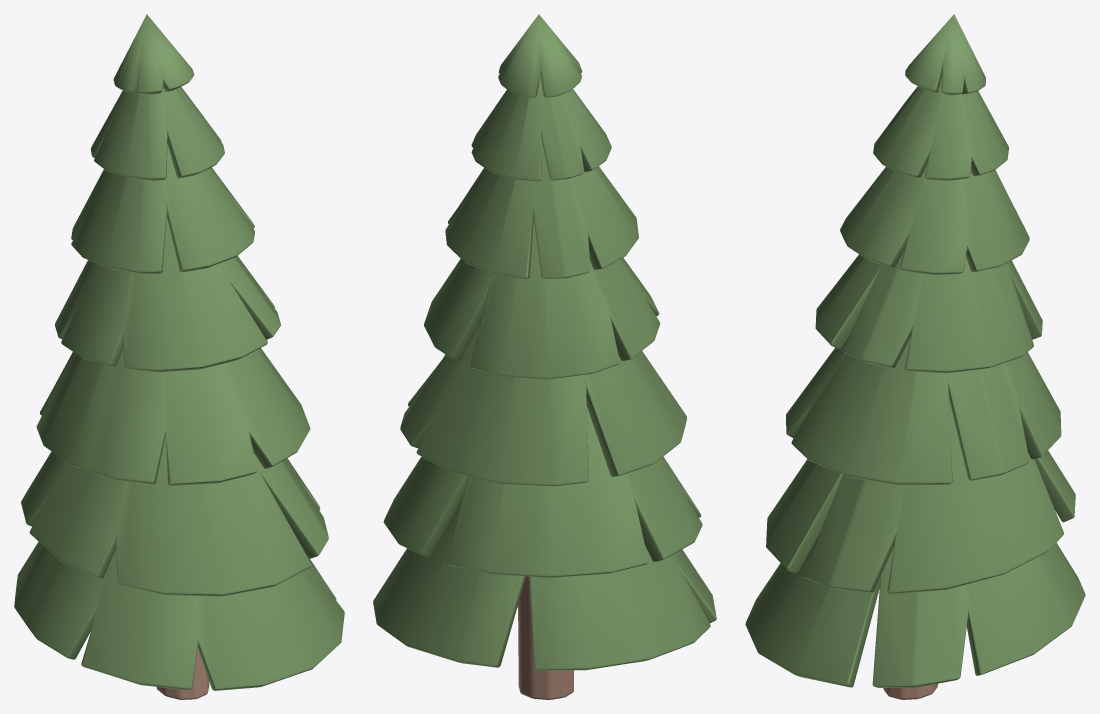
File: pineTree.glb
The picture shows the model from 3 angles, left to right: view 1: azimuth 30°, elevation 25°; view 2: azimuth 150°, elevation 25°; view 3: azimuth 270°, elevation 25°; orthographic projection. The views are drawn at different scales.
Visible parts, largest first — view 1: Cone.008; view 2: Cone.008; view 3: Cone.008.
Boxes of the visible parts, x1=… form: Cone.008: x1=14, y1=14, x2=344, y2=699; Cone.008: x1=373, y1=14, x2=716, y2=699; Cone.008: x1=745, y1=14, x2=1085, y2=699.
Size of the model in its own units: 3.75 by 8.32 by 3.83.
